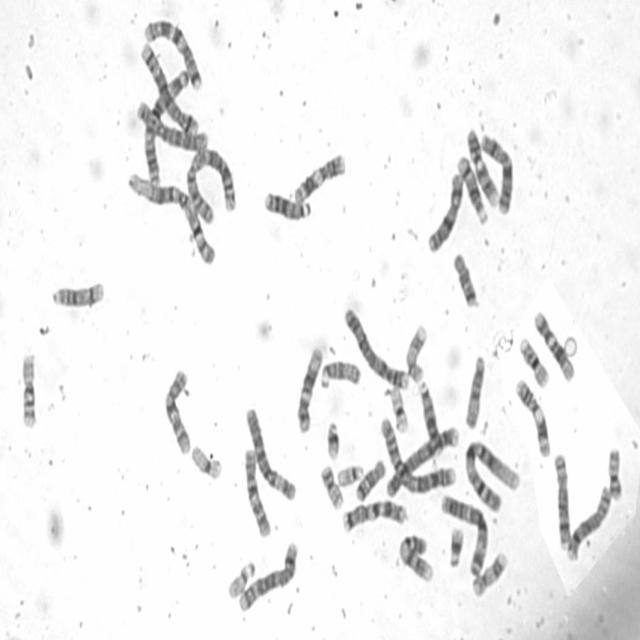A1: (124, 168, 217, 268), (462, 434, 522, 514)
A2: (380, 414, 458, 496), (184, 144, 238, 226)
A3: (142, 61, 192, 186), (438, 489, 489, 577)
B4: (341, 302, 410, 392), (385, 422, 461, 498)
B5: (137, 36, 202, 143), (236, 537, 299, 614)
C10: (161, 363, 194, 458), (241, 443, 273, 539)
C11: (512, 374, 553, 459), (290, 148, 348, 206)
C12: (532, 306, 576, 382), (295, 342, 323, 434)
C6: (242, 401, 299, 504), (136, 96, 209, 154)
C7: (140, 13, 204, 92), (340, 496, 409, 534)
C8: (564, 480, 613, 563), (551, 447, 573, 551)
C9: (464, 125, 501, 208), (396, 529, 436, 584)
D13: (417, 376, 444, 458), (262, 186, 312, 222)
D14: (454, 150, 488, 228), (49, 276, 106, 310)
D15: (462, 350, 487, 430), (317, 354, 363, 392)
E16: (517, 332, 550, 390), (18, 348, 38, 430)
E17: (469, 546, 510, 599), (404, 320, 428, 386)
E18: (450, 248, 480, 308), (353, 454, 386, 504)
F19: (189, 441, 224, 482), (386, 381, 411, 434)
F20: (318, 459, 345, 511), (606, 442, 624, 502)
G21: (446, 522, 465, 570), (324, 416, 341, 462)
G22: (225, 555, 258, 601), (335, 461, 365, 488)
X: (425, 168, 465, 255), (477, 128, 515, 214)
